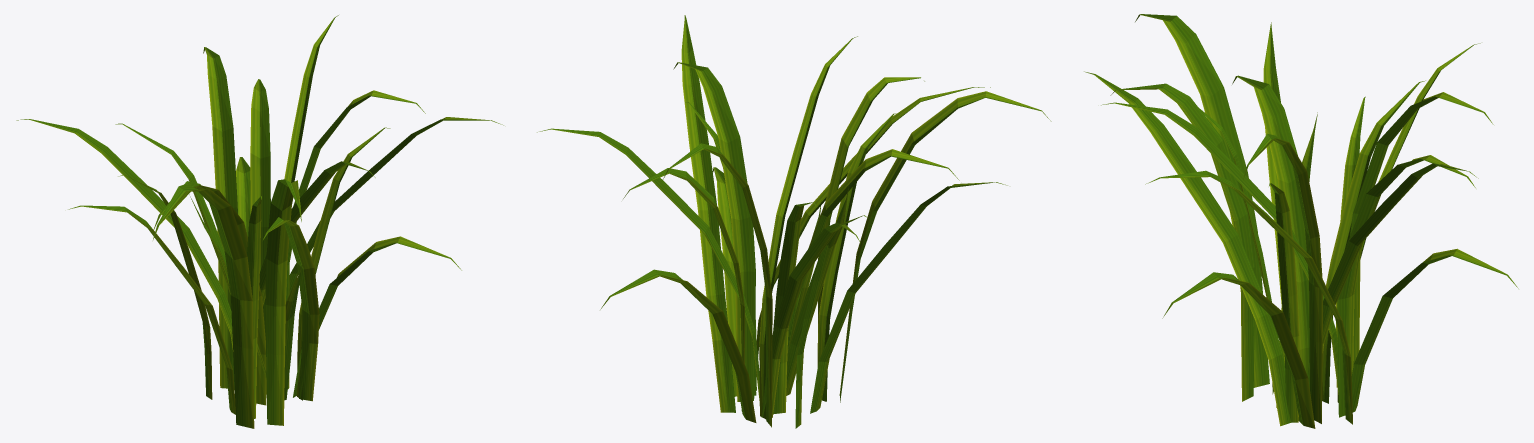
Rendered from Low Grass.obj.
The picture shows the model from 3 angles, left to right: view 1: azimuth 30°, elevation 25°; view 2: azimuth 150°, elevation 25°; view 3: azimuth 270°, elevation 25°; orthographic projection. The views are drawn at different scales.
Parts seen in each view (by area): view 1: Grass_20; view 2: Grass_20; view 3: Grass_20.
Part boxes in pixels (<box>): Grass_20: <box>16,15,503,428</box>; Grass_20: <box>537,15,1051,428</box>; Grass_20: <box>1084,14,1518,428</box>.
Bounding box in the file's own units: 0.2719 × 0.2028 × 0.2522.
1 material, 1 textured.
